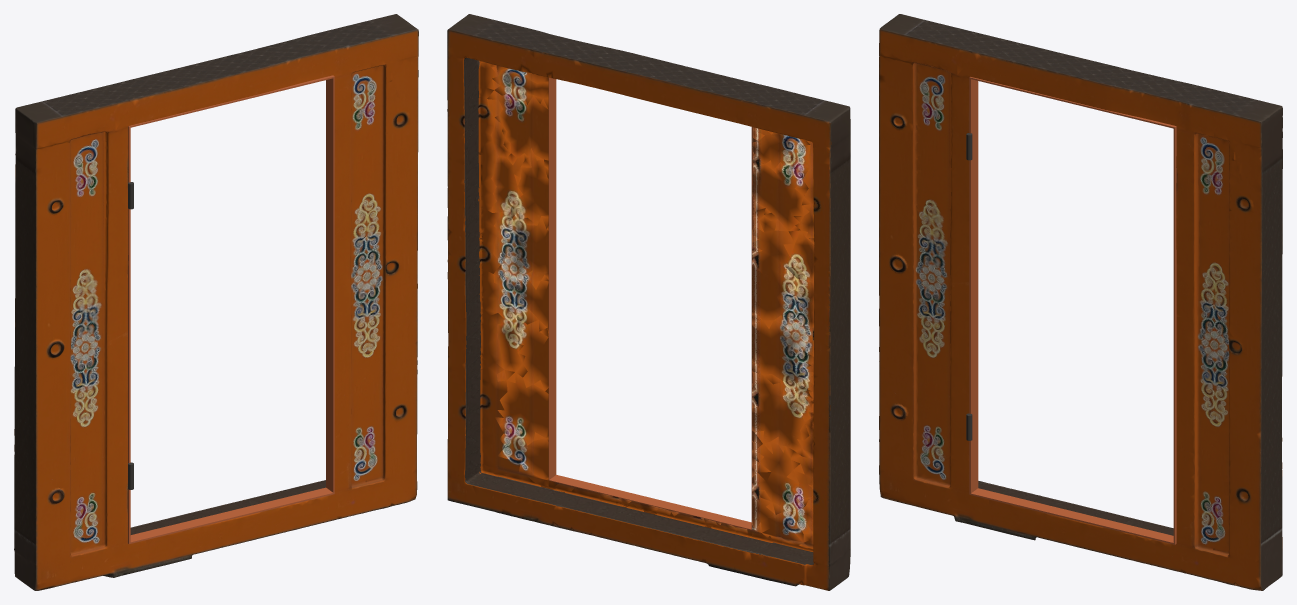
The model's file is khaalga_khuree.glb.
The picture shows the model from 3 angles, left to right: view 1: azimuth 30°, elevation 25°; view 2: azimuth 150°, elevation 25°; view 3: azimuth 330°, elevation 25°; orthographic projection.
Visible parts, largest first — view 1: Khaalga_Khuree; view 2: Khaalga_Khuree; view 3: Khaalga_Khuree.
Part boxes in pixels (x1,y1,x2,y2): Khaalga_Khuree: (14, 14, 418, 590); Khaalga_Khuree: (447, 14, 850, 590); Khaalga_Khuree: (879, 14, 1282, 590).
Bounding box in the file's own units: 1.61 × 1.9 × 0.19.
Materials: 4 (2 with a texture image).
